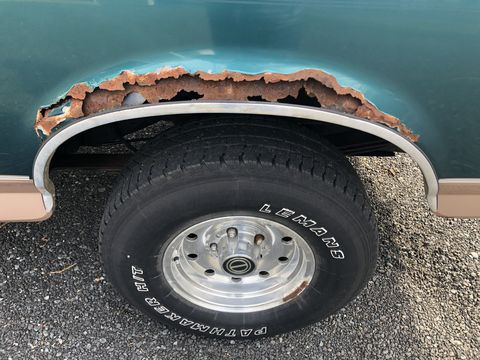rust: (201, 79, 306, 100), (77, 85, 159, 106), (324, 89, 379, 118)
